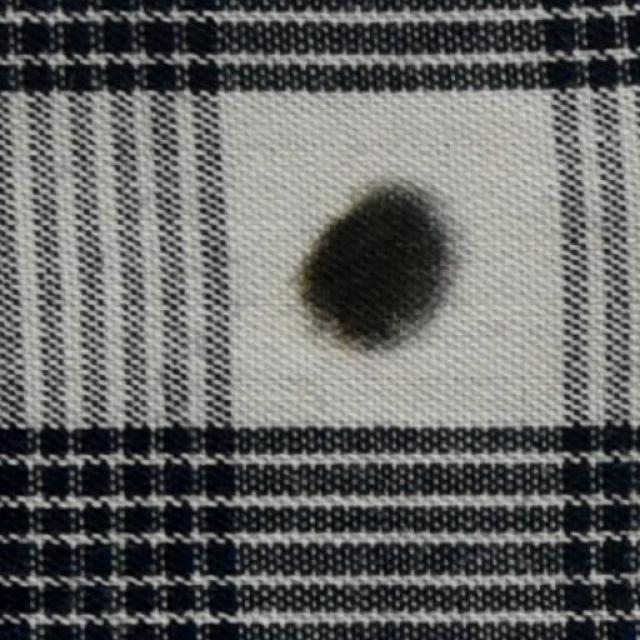Stain: (289, 181, 452, 355)
